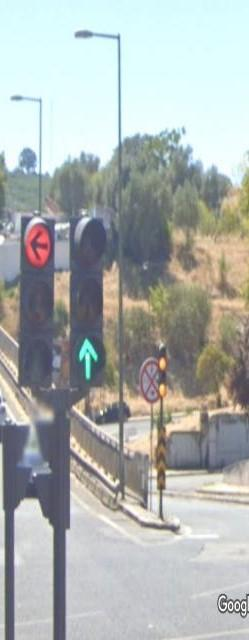green_light: (68, 216, 105, 386)
red_light: (18, 216, 55, 386)
